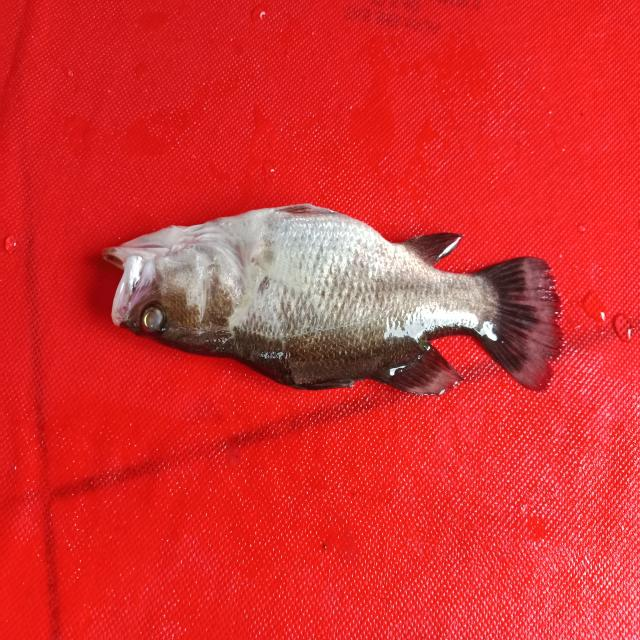ikan: (78, 184, 582, 418)
